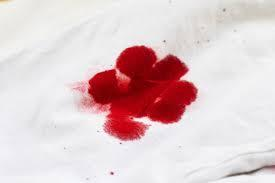blood: (84, 45, 198, 140)
